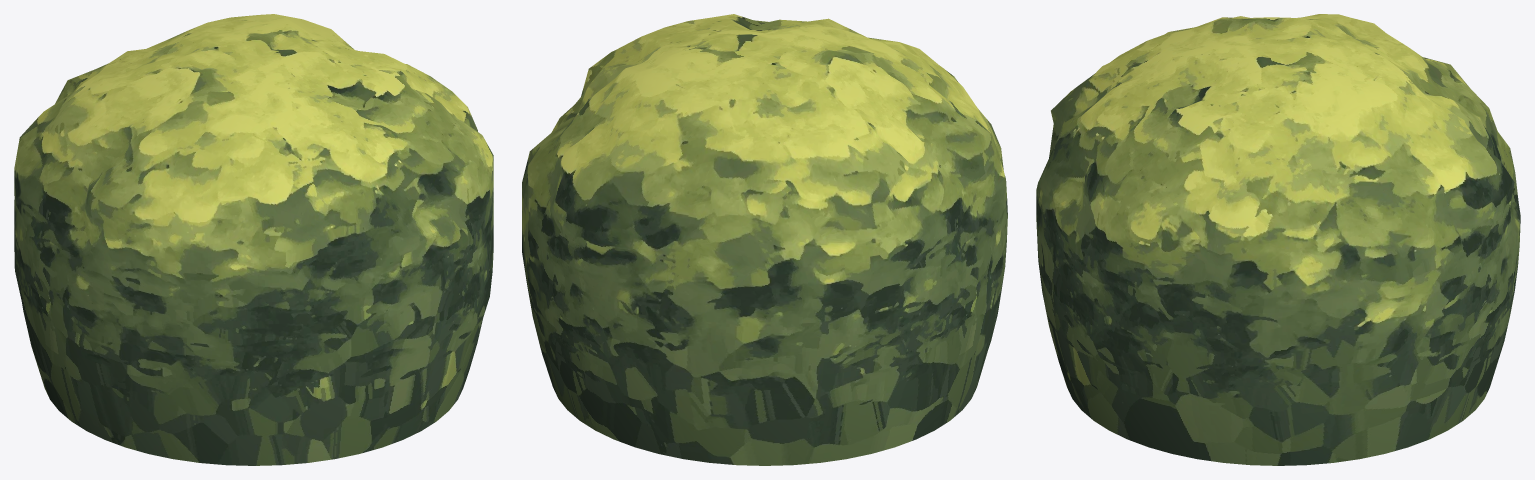
Rendered from shrub_round.glb.
3 renders of one model, left to right at view 1: azimuth 30°, elevation 25°; view 2: azimuth 150°, elevation 25°; view 3: azimuth 270°, elevation 25°, orthographic.
Visible parts, largest first — view 1: body; view 2: body; view 3: body.
Part boxes in pixels (x1,y1,x2,y2): body: (14, 14, 493, 465); body: (522, 14, 1007, 465); body: (1036, 14, 1520, 465).
Bounding box in the file's own units: 1.1 × 0.8271 × 1.1.
1 material, 1 textured.
